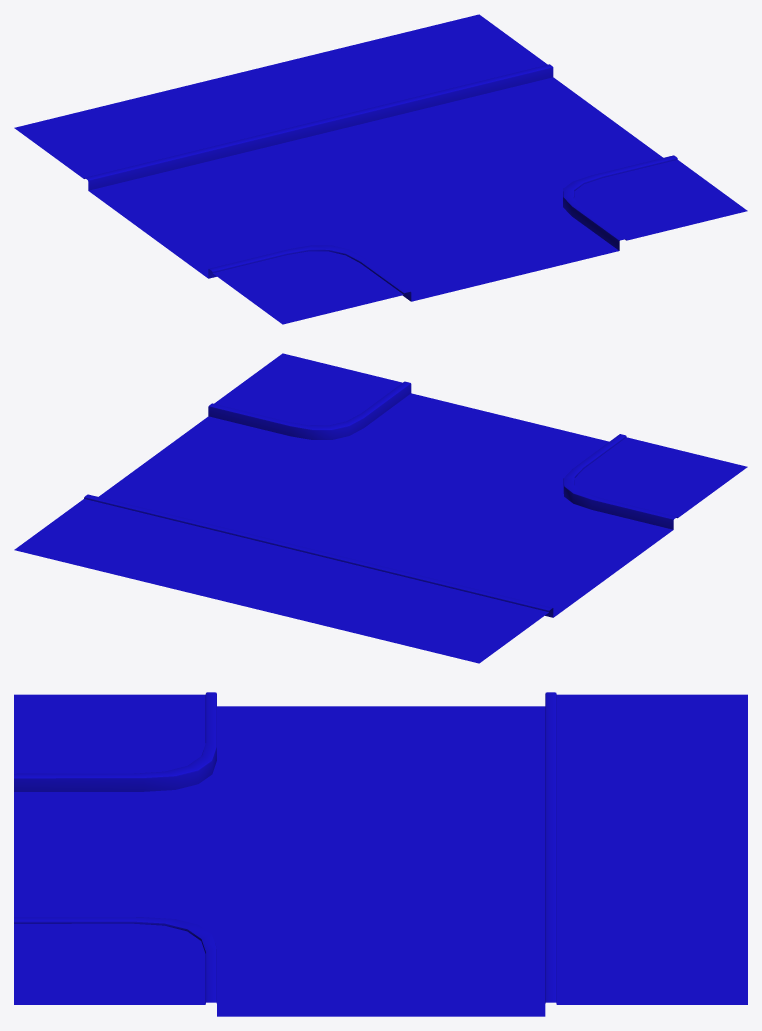
3 views of the same model, one above another, from view 1: azimuth 30°, elevation 25°; view 2: azimuth 150°, elevation 25°; view 3: azimuth 270°, elevation 25° (orthographic). The views are drawn at different scales.
Visible parts, largest first — view 1: R_07; view 2: R_07; view 3: R_07.
Boxes of the visible parts, x1=… form: R_07: x1=14, y1=14, x2=747, y2=324; R_07: x1=14, y1=353, x2=747, y2=663; R_07: x1=14, y1=692, x2=747, y2=1016.
Size of the model in its own units: 1000 by 21.13 by 1000.
